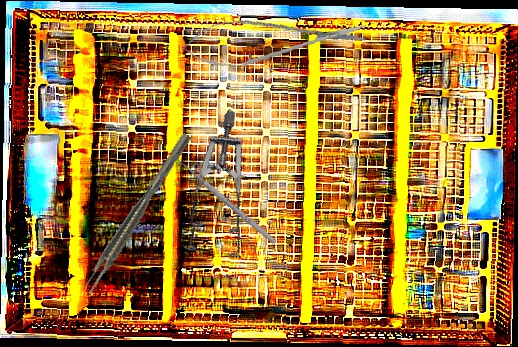Hook Surgical: (165, 151, 279, 250)
Micro Scissor: (180, 9, 369, 72)
Speculum: (142, 108, 310, 280)
Tissue Forceps: (79, 132, 197, 296)
